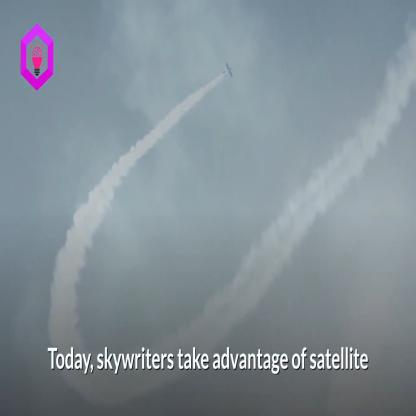plane: (222, 56, 239, 84)
